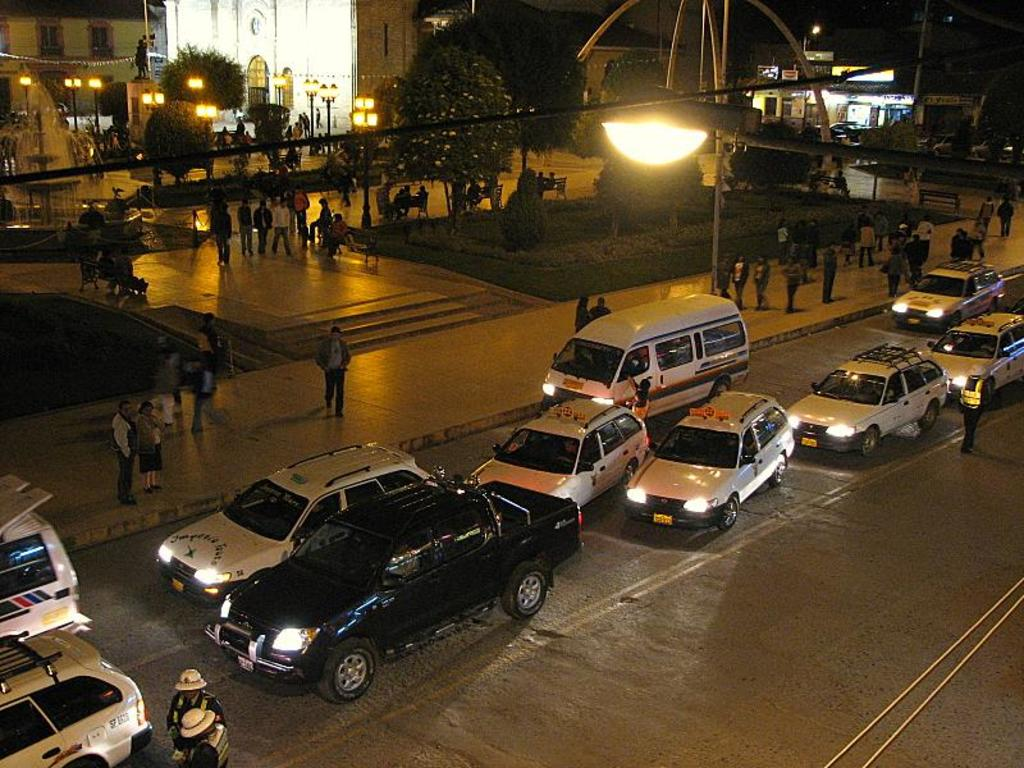mobil: (148, 428, 429, 583), (556, 290, 772, 422), (788, 324, 952, 458), (636, 401, 798, 530), (895, 257, 1010, 328)
